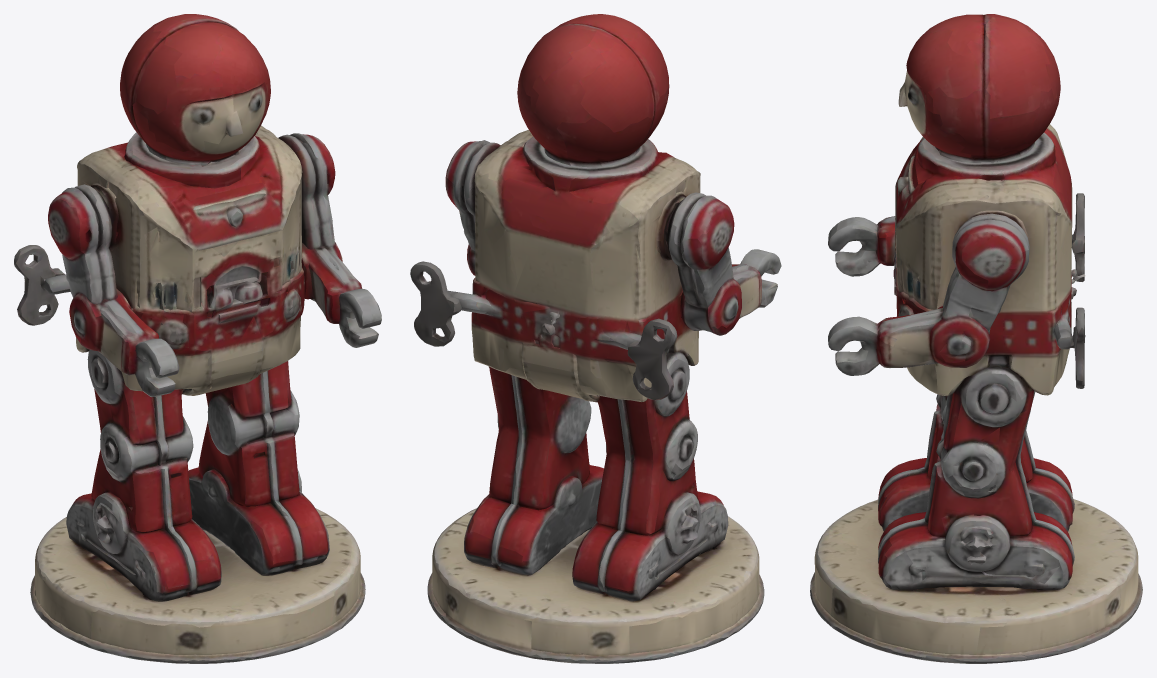
The picture shows the model from 3 angles, left to right: view 1: azimuth 30°, elevation 25°; view 2: azimuth 150°, elevation 25°; view 3: azimuth 270°, elevation 25°; orthographic projection.
Visible parts, largest first — view 1: world; view 2: world; view 3: world.
Part boxes in pixels (x1,y1,x2,y2): world: (14,14,381,663); world: (410,14,781,663); world: (810,14,1142,663).
Size of the model in its own units: 0.1499 by 0.28 by 0.1475.
Materials: 1 (1 with a texture image).
